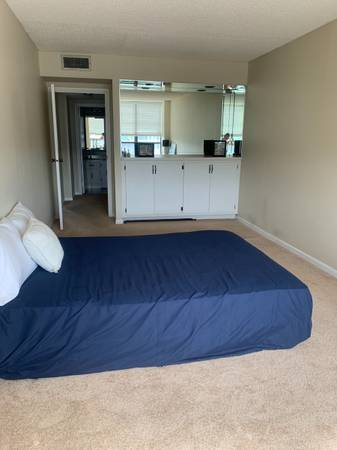bed: (2, 224, 311, 377)
